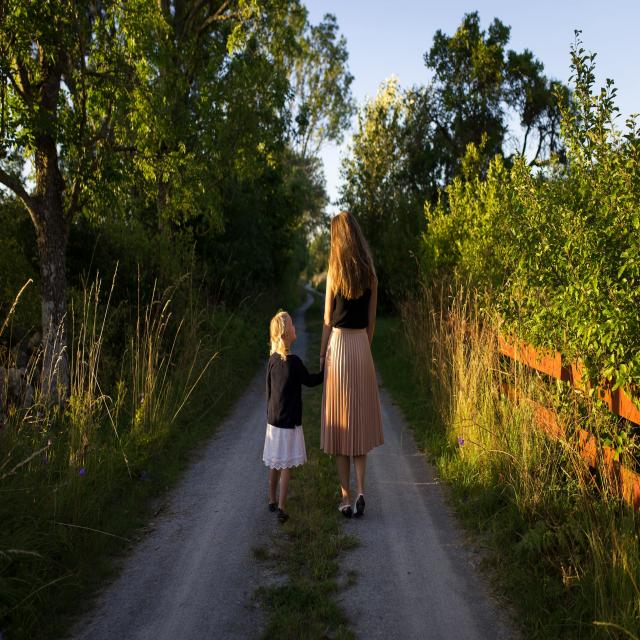adult: (320, 210, 379, 516), (262, 306, 328, 516)
